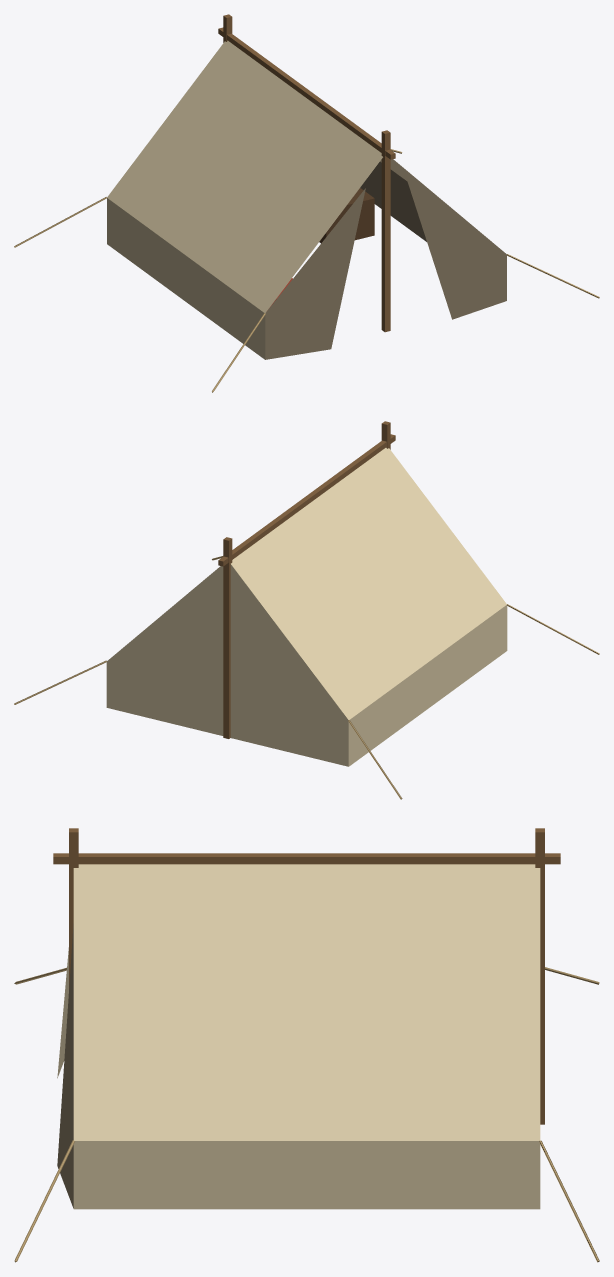
File: tent.glb
3 views of the same model, one above another, from view 1: azimuth 30°, elevation 25°; view 2: azimuth 150°, elevation 25°; view 3: azimuth 270°, elevation 25° (orthographic). The views are drawn at different scales.
Visible parts, largest first — view 1: tent; view 2: tent; view 3: tent.
Part boxes in pixels (left/top/right/bottom): tent: left=14, top=14, right=599, bottom=392; tent: left=14, top=421, right=599, bottom=799; tent: left=14, top=828, right=599, bottom=1262.
Size of the model in its own units: 4.81 by 2.36 by 4.27.
